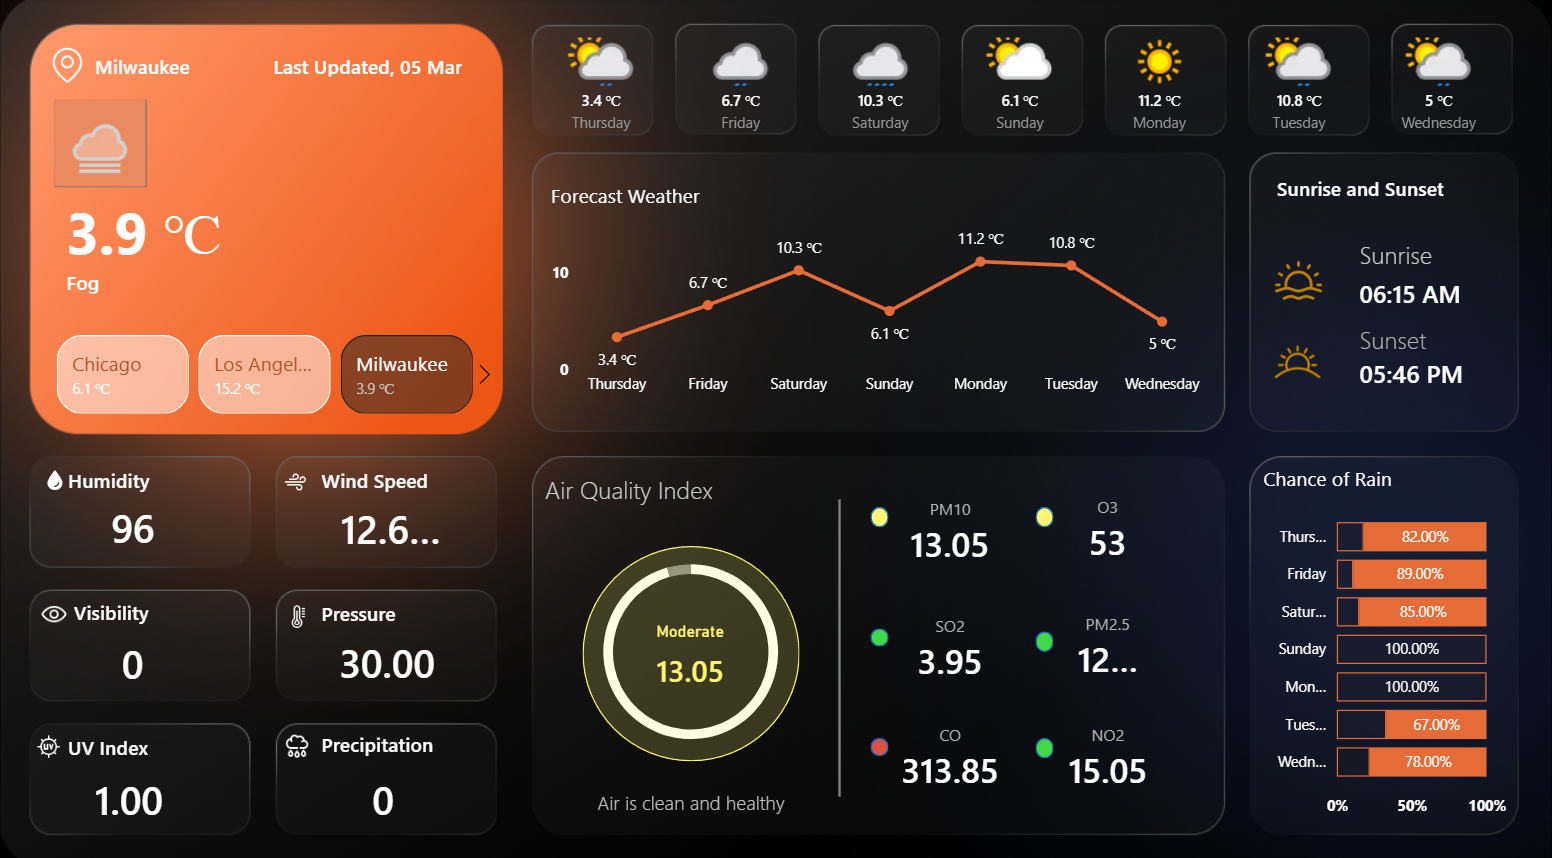

What the dashboard file says about the page in this screenshot:
{"tool":"powerbi","page":{"name":"Page 1","canvas":[1280,720],"ordinal":0},"visuals":[{"type":"donutChart","fields":{"Y":["_Measures.Left_value_PM10","Sum(Current.current.air_quality.pm10)"]},"box":[474.1,436.4,190,205.7],"z":0},{"type":"shape","box":[480.4,452.1,179,177.4],"z":1000},{"type":"advancedSlicerVisual","fields":{"Values":["Locations.location.name"]},"box":[22.7,272.6,393.7,75.7],"z":2000},{"type":"shape","box":[55.8,160.9,173.7,62.1],"z":3000},{"type":"shape","box":[55.8,223.1,210.3,20.7],"z":4000},{"type":"shape","box":[78.6,45.7,117.1,20],"z":5000},{"type":"image","box":[41.5,27.1,28.7,57.4],"z":6000},{"type":"shape","box":[225.7,45.7,174.3,20],"z":7000},{"type":"cardVisual","fields":{"Data":["Min(Current.current.condition.icon)"]},"box":[45.7,84.3,75.7,72.9],"z":8000},{"type":"image","box":[33.3,492.7,24,30.2],"z":9000},{"type":"shape","box":[61.5,492.7,64.6,27.1],"z":10000},{"type":"shape","box":[266,494,65,27],"z":11000},{"type":"shape","box":[266,602,95,27],"z":12000},{"type":"shape","box":[266,385,95,24],"z":13000},{"type":"shape","box":[57.3,384.4,72.9,27.1],"z":14000},{"type":"shape","box":[56.2,604.2,72.9,27.1],"z":15000},{"type":"image","box":[36.5,386.5,17.7,22.9],"z":16000},{"type":"image","box":[234.4,385.4,18.8,28.1],"z":17000},{"type":"image","box":[237.5,500,18.8,19.8],"z":18000},{"type":"image","box":[31,604,20,27],"z":19000},{"type":"image","box":[234,606,24,23],"z":20000},{"type":"advancedSlicerVisual","fields":{"Values":["Forcast_Day.Day_Name"]},"box":[437.1,27.1,810,102.9],"z":21000},{"type":"lineChart","title":"Forecast Weather","fields":{"Y":["Sum(Forcast_Day.forecast.forecastday.day.avgtemp_c)"],"Category":["Forcast_Day.Day_Name"]},"box":[450,151.7,550,185],"z":22000},{"type":"shape","box":[1052.4,140.8,165,31.8],"z":23000},{"type":"cardVisual","fields":{"Data":["Sum(Current.current.humidity)"]},"box":[75,414.8,105,41.6],"z":24000},{"type":"cardVisual","fields":{"Data":["_Measures.Wind_Speed"]},"box":[264.9,409.8,146.6,53.3],"z":25000},{"type":"cardVisual","fields":{"Data":["Sum(Current.current.vis_km)"]},"box":[83.7,522.8,77.4,50.5],"z":26000},{"type":"cardVisual","fields":{"Data":["Sum(Current.current.pressure_in)"]},"box":[263.2,523.1,118.3,50],"z":27000},{"type":"cardVisual","fields":{"Data":["Sum(Current.current.uv)"]},"box":[61.6,634.7,118.3,50],"z":28000},{"type":"cardVisual","fields":{"Data":["Sum(Current.current.precip_mm)"]},"box":[290.6,635,69.5,49],"z":29000},{"type":"shape","box":[1121.2,223.2,96.6,41.6],"z":30000},{"type":"shape","box":[1121.2,291.5,96.6,36.7],"z":31000},{"type":"shape","box":[1121.2,191.6,91.6,41.6],"z":32000},{"type":"shape","box":[1121.2,264.9,91.6,35],"z":33000},{"type":"image","box":[1037.3,275,65.6,50],"z":34000},{"type":"image","box":[1048.3,214,45.3,39.1],"z":35000},{"type":"hundredPercentStackedBarChart","title":"Chance of Rain","fields":{"Y":["Current.Left_value_Rain","Sum(Forcast_Day.forecast.forecastday.day.daily_chance_of_rain)"],"Category":["Forcast_Day.Day_Name"]},"box":[1037.3,385.9,209.3,298.4],"z":36000},{"type":"shape","box":[449.9,384.3,165.6,42.2],"z":37000},{"type":"cardVisual","fields":{"Data":["Sum(Current.current.air_quality.pm10)"]},"box":[730,406.6,106.8,67.5],"z":38000},{"type":"cardVisual","fields":{"Data":["Sum(Current.current.air_quality.o3)"]},"box":[868.7,405.9,89.3,66.6],"z":39000},{"type":"cardVisual","fields":{"Data":["Sum(Current.current.air_quality.so2)"]},"box":[738.8,503.3,89.3,66.6],"z":40000},{"type":"cardVisual","fields":{"Data":["Sum(Current.current.air_quality.co)"]},"box":[717.7,592.6,131.5,66.6],"z":41000},{"type":"cardVisual","fields":{"Data":["Sum(Current.current.air_quality.pm2_5)"]},"box":[868.7,501.7,89.3,66.6],"z":42000},{"type":"cardVisual","fields":{"Data":["Sum(Current.current.air_quality.no2)"]},"box":[860.6,592.6,107.2,66.6],"z":43000},{"type":"shape","box":[718,419.6,14.9,16.8],"z":44000},{"type":"shape","box":[718,609.9,14.9,14.9],"z":45000},{"type":"shape","box":[718,520.3,14.9,14.9],"z":46000},{"type":"shape","box":[854.2,419.6,14.9,16.8],"z":47000},{"type":"shape","box":[854.2,609.9,14.9,16.8],"z":48000},{"type":"shape","box":[854.2,522.2,14.9,16.8],"z":49000},{"type":"shape","box":[667.2,414.5,50.2,244.9],"z":50000},{"type":"cardVisual","fields":{"Data":["Sum(Current.current.air_quality.pm10)"]},"box":[524.4,514.9,91.1,65.9],"z":51000},{"type":"shape","box":[465.7,642.9,208.6,41.4],"z":52000}]}

Visuals, with their boxes in screenshot pixels (x1, y1, x2, y2), scaled from the page's 1280x720 canvas onto the 1552x858 screenshot:
donutChart - _Measures.Left_value_PM10 x Sum(Current.current.air_quality.pm10): {"left": 575, "top": 520, "right": 805, "bottom": 765}
shape: {"left": 582, "top": 539, "right": 800, "bottom": 750}
advancedSlicerVisual - Locations.location.name: {"left": 28, "top": 325, "right": 505, "bottom": 415}
shape: {"left": 68, "top": 192, "right": 278, "bottom": 266}
shape: {"left": 68, "top": 266, "right": 323, "bottom": 291}
shape: {"left": 95, "top": 54, "right": 237, "bottom": 78}
image: {"left": 50, "top": 32, "right": 85, "bottom": 101}
shape: {"left": 274, "top": 54, "right": 485, "bottom": 78}
cardVisual - Min(Current.current.condition.icon): {"left": 55, "top": 100, "right": 147, "bottom": 187}
image: {"left": 40, "top": 587, "right": 69, "bottom": 623}
shape: {"left": 75, "top": 587, "right": 153, "bottom": 619}
shape: {"left": 323, "top": 589, "right": 401, "bottom": 621}
shape: {"left": 323, "top": 717, "right": 438, "bottom": 750}
shape: {"left": 323, "top": 459, "right": 438, "bottom": 487}
shape: {"left": 69, "top": 458, "right": 158, "bottom": 490}
shape: {"left": 68, "top": 720, "right": 157, "bottom": 752}
image: {"left": 44, "top": 461, "right": 66, "bottom": 488}
image: {"left": 284, "top": 459, "right": 307, "bottom": 493}
image: {"left": 288, "top": 596, "right": 311, "bottom": 619}
image: {"left": 38, "top": 720, "right": 62, "bottom": 752}
image: {"left": 284, "top": 722, "right": 313, "bottom": 750}
advancedSlicerVisual - Forcast_Day.Day_Name: {"left": 530, "top": 32, "right": 1512, "bottom": 155}
"Forecast Weather" lineChart: {"left": 546, "top": 181, "right": 1212, "bottom": 401}
shape: {"left": 1276, "top": 168, "right": 1476, "bottom": 206}
cardVisual - Sum(Current.current.humidity): {"left": 91, "top": 494, "right": 218, "bottom": 544}
cardVisual - _Measures.Wind_Speed: {"left": 321, "top": 488, "right": 499, "bottom": 552}
cardVisual - Sum(Current.current.vis_km): {"left": 101, "top": 623, "right": 195, "bottom": 683}
cardVisual - Sum(Current.current.pressure_in): {"left": 319, "top": 623, "right": 463, "bottom": 683}
cardVisual - Sum(Current.current.uv): {"left": 75, "top": 756, "right": 218, "bottom": 816}
cardVisual - Sum(Current.current.precip_mm): {"left": 352, "top": 757, "right": 437, "bottom": 815}
shape: {"left": 1359, "top": 266, "right": 1477, "bottom": 316}
shape: {"left": 1359, "top": 347, "right": 1477, "bottom": 391}
shape: {"left": 1359, "top": 228, "right": 1471, "bottom": 278}
shape: {"left": 1359, "top": 316, "right": 1471, "bottom": 357}
image: {"left": 1258, "top": 328, "right": 1337, "bottom": 387}
image: {"left": 1271, "top": 255, "right": 1326, "bottom": 302}
"Chance of Rain" hundredPercentStackedBarChart: {"left": 1258, "top": 460, "right": 1512, "bottom": 815}
shape: {"left": 546, "top": 458, "right": 746, "bottom": 508}
cardVisual - Sum(Current.current.air_quality.pm10): {"left": 885, "top": 485, "right": 1015, "bottom": 565}
cardVisual - Sum(Current.current.air_quality.o3): {"left": 1053, "top": 484, "right": 1162, "bottom": 563}
cardVisual - Sum(Current.current.air_quality.so2): {"left": 896, "top": 600, "right": 1004, "bottom": 679}
cardVisual - Sum(Current.current.air_quality.co): {"left": 870, "top": 706, "right": 1030, "bottom": 786}
cardVisual - Sum(Current.current.air_quality.pm2_5): {"left": 1053, "top": 598, "right": 1162, "bottom": 677}
cardVisual - Sum(Current.current.air_quality.no2): {"left": 1043, "top": 706, "right": 1173, "bottom": 786}
shape: {"left": 871, "top": 500, "right": 889, "bottom": 520}
shape: {"left": 871, "top": 727, "right": 889, "bottom": 745}
shape: {"left": 871, "top": 620, "right": 889, "bottom": 638}
shape: {"left": 1036, "top": 500, "right": 1054, "bottom": 520}
shape: {"left": 1036, "top": 727, "right": 1054, "bottom": 747}
shape: {"left": 1036, "top": 622, "right": 1054, "bottom": 642}
shape: {"left": 809, "top": 494, "right": 870, "bottom": 786}
cardVisual - Sum(Current.current.air_quality.pm10): {"left": 636, "top": 614, "right": 746, "bottom": 692}
shape: {"left": 565, "top": 766, "right": 818, "bottom": 815}
